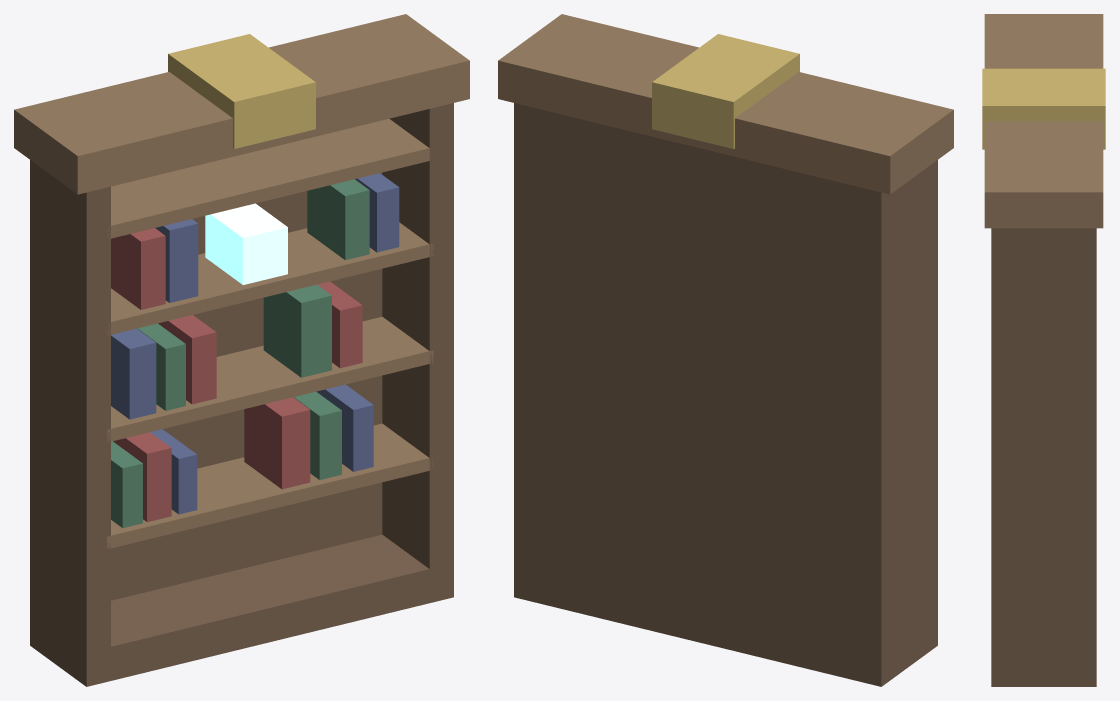
File: castle_bookcase.glb
The picture shows the model from 3 angles, left to right: view 1: azimuth 30°, elevation 25°; view 2: azimuth 150°, elevation 25°; view 3: azimuth 270°, elevation 25°; orthographic projection. The views are drawn at different scales.
Visible parts, largest first — view 1: Castle_Bookcase; view 2: Castle_Bookcase; view 3: Castle_Bookcase.
Boxes of the visible parts, box(x1,y1,x2,y2) form: Castle_Bookcase: box(14, 14, 469, 686); Castle_Bookcase: box(498, 14, 953, 686); Castle_Bookcase: box(982, 14, 1105, 686).
Bounding box in the file's own units: 1.92 × 2.59 × 0.56.
